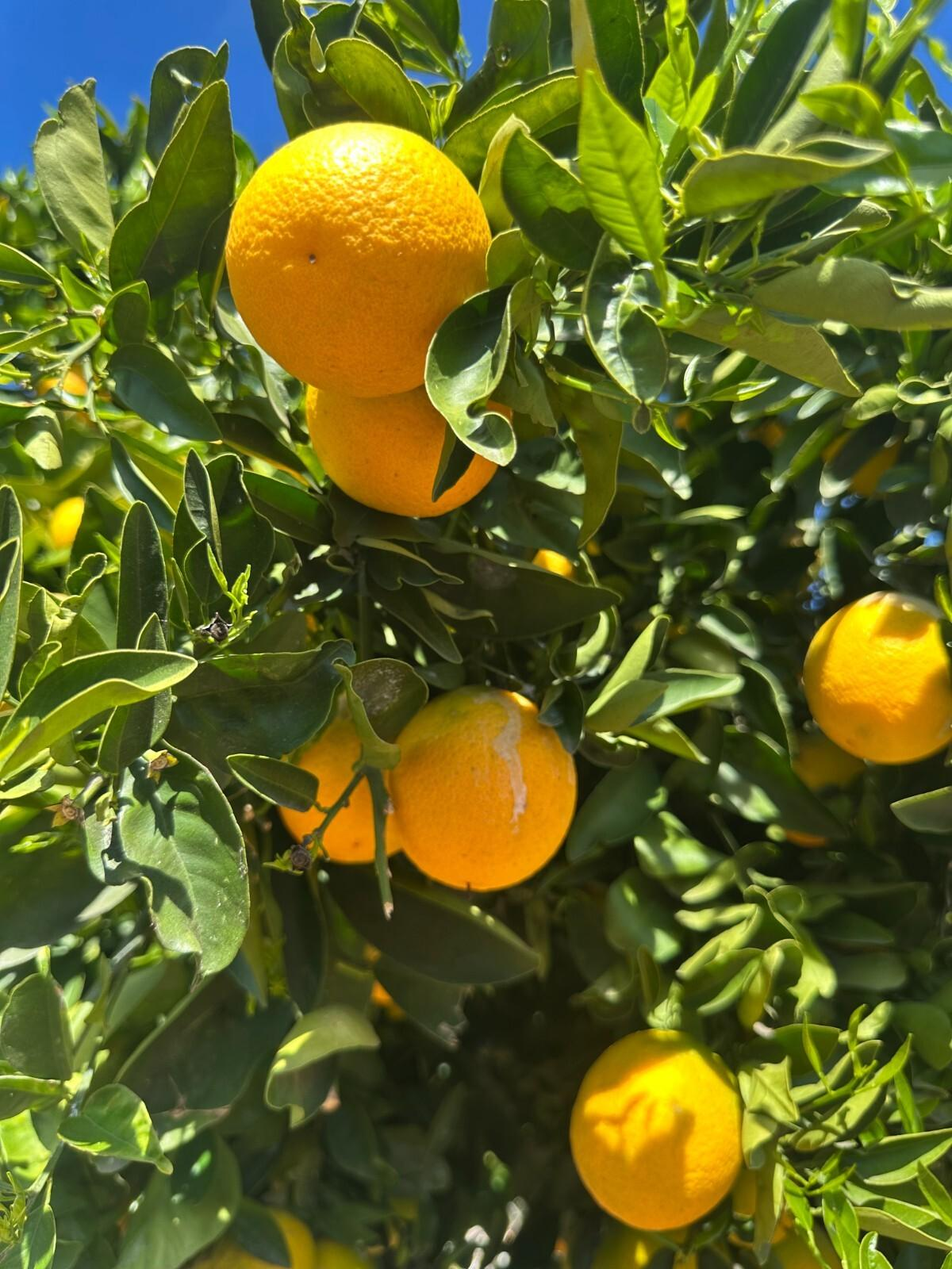orange: (226, 121, 491, 397), (388, 686, 576, 890), (570, 1029, 741, 1230), (305, 381, 514, 517), (803, 592, 951, 764), (275, 714, 400, 861), (761, 732, 871, 845), (820, 419, 906, 500), (210, 1209, 317, 1268), (35, 356, 104, 420), (531, 537, 599, 587), (315, 1237, 378, 1268), (51, 496, 83, 548)
